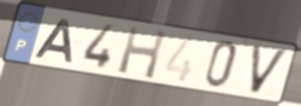0: (204, 39, 242, 91)
4: (78, 22, 117, 72), (161, 33, 195, 84)
A: (32, 18, 75, 65)
H: (115, 24, 169, 82)
V: (249, 43, 291, 97)
